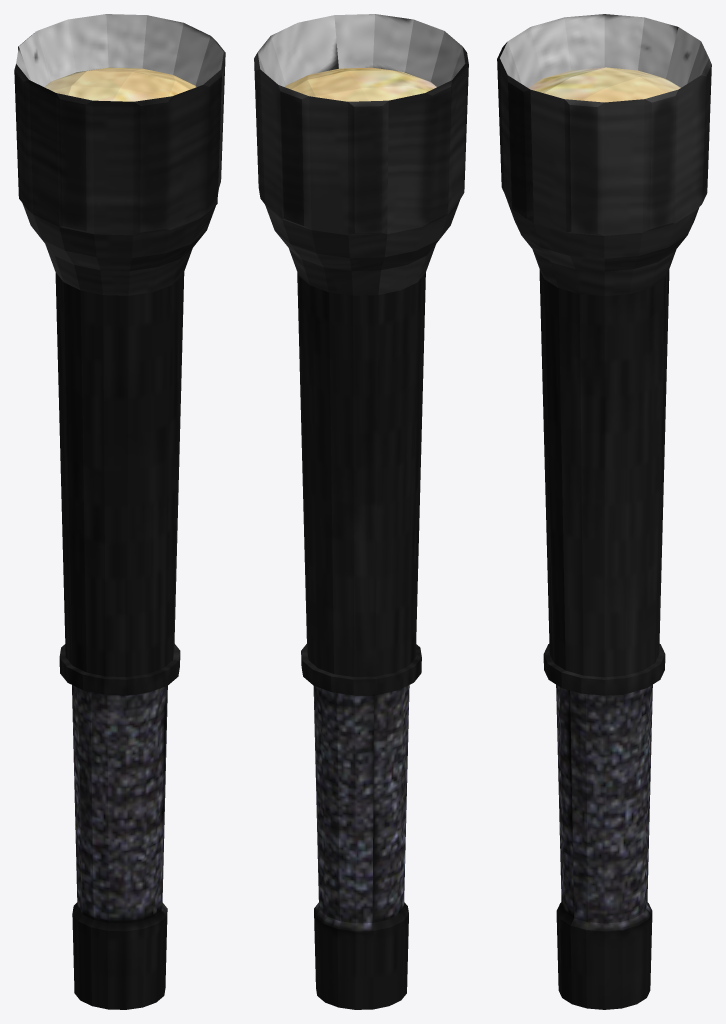
The model's file is flashlight.fbx.
The picture shows the model from 3 angles, left to right: view 1: azimuth 30°, elevation 25°; view 2: azimuth 150°, elevation 25°; view 3: azimuth 270°, elevation 25°; orthographic projection.
Parts seen in each view (by area): view 1: Circle; view 2: Circle; view 3: Circle.
Boxes of the visible parts, x1,y1,x2,y2 form: Circle: (14, 14, 225, 1009); Circle: (254, 14, 468, 1009); Circle: (497, 14, 711, 1009).
Bounding box in the file's own units: 22.55 × 108 × 22.55.
Materials: 1 (1 with a texture image).
